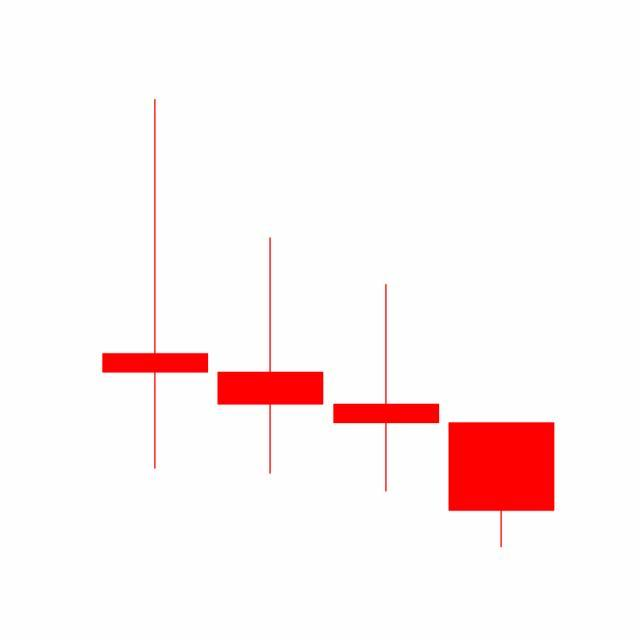Spinning Top: (329, 282, 445, 496)
